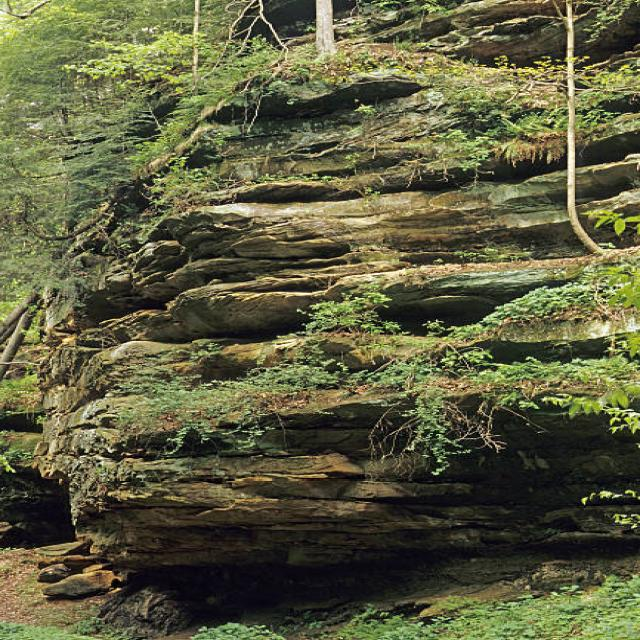Sedimentary: (54, 54, 640, 548)
